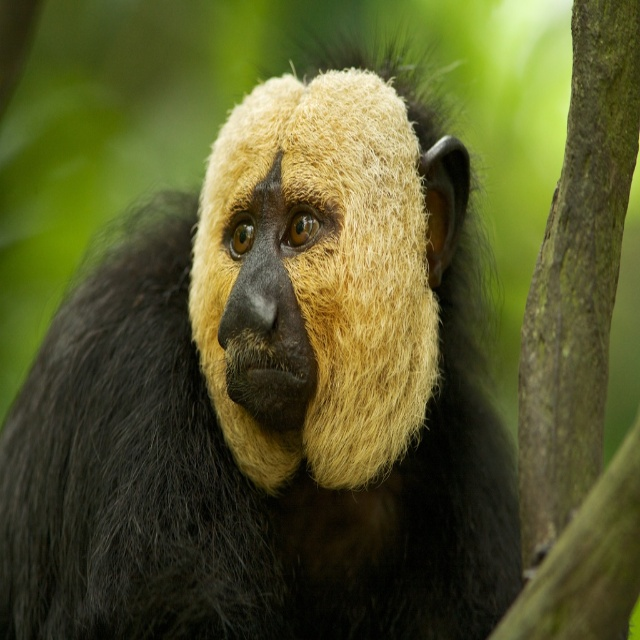Monkey: (0, 13, 530, 639)
